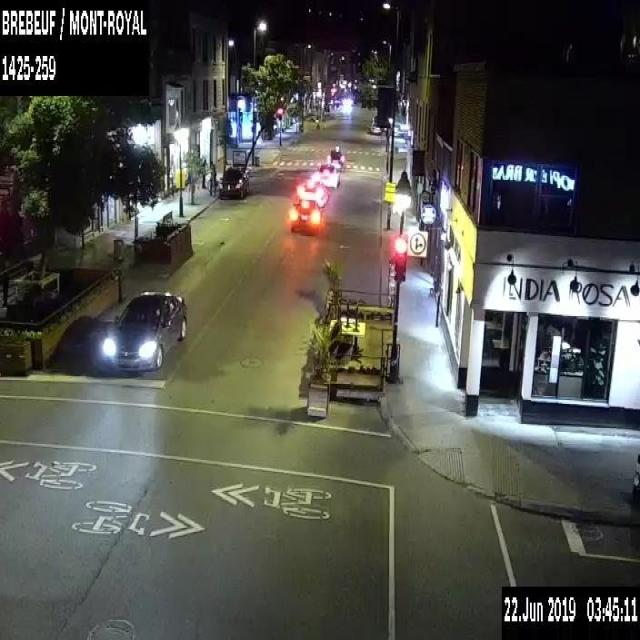pedestrian: (209, 158, 216, 196), (200, 157, 206, 188)
vehicle: (96, 289, 188, 372), (217, 161, 250, 199), (287, 199, 321, 232), (298, 178, 328, 207), (315, 164, 341, 189), (326, 146, 345, 170), (368, 121, 383, 135), (340, 98, 352, 115)
